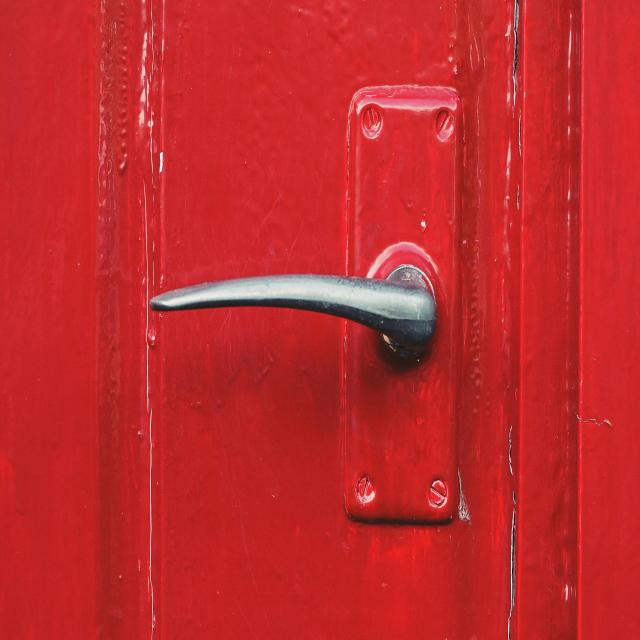door-handle: (150, 264, 436, 356)
